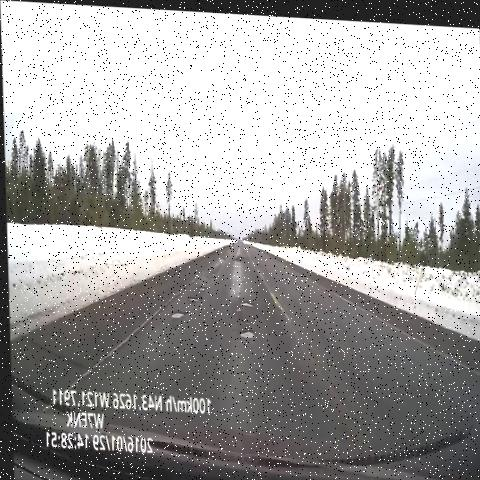pothole: (233, 313, 261, 350), (228, 289, 256, 320), (185, 287, 208, 320), (167, 300, 189, 326), (228, 242, 247, 267), (195, 277, 210, 297)
